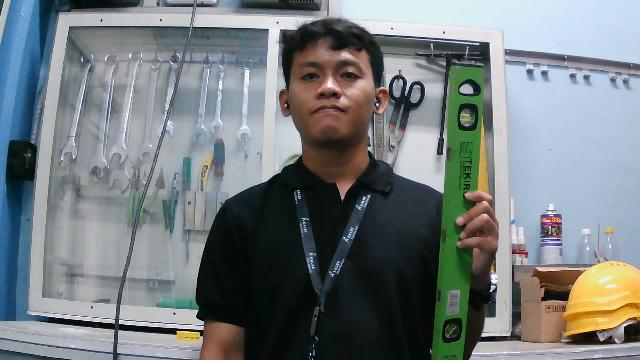water_pass: (428, 57, 489, 359)
